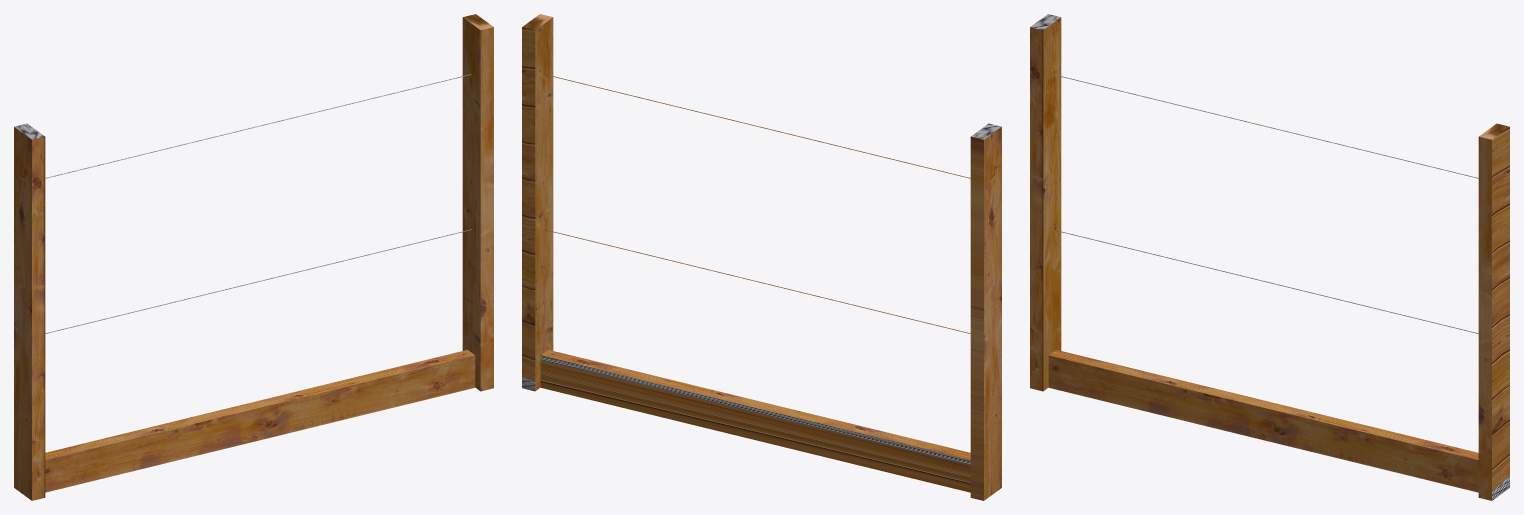
The model's file is trellis-setup.obj.
3 renders of one model, left to right at view 1: azimuth 30°, elevation 25°; view 2: azimuth 150°, elevation 25°; view 3: azimuth 330°, elevation 25°, orthographic.
Parts seen in each view (by area): view 1: Trellis_Cylinder.001; view 2: Trellis_Cylinder.001; view 3: Trellis_Cylinder.001.
Boxes of the visible parts, x1,y1,x2,y2 form: Trellis_Cylinder.001: (14,14,493,500); Trellis_Cylinder.001: (522,14,1001,500); Trellis_Cylinder.001: (1030,14,1509,500).
Bounding box in the file's own units: 1.34 × 1 × 0.09.
Materials: 1 (1 with a texture image).
